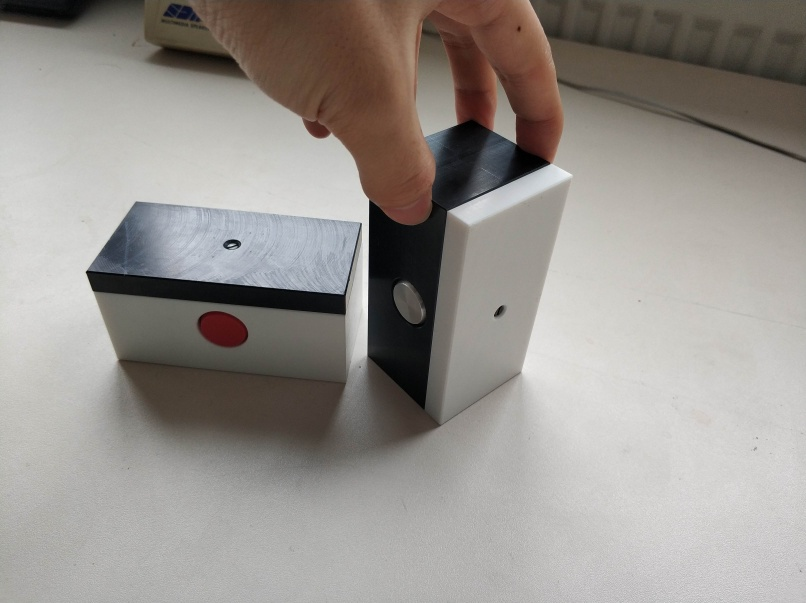black+white+red: (84, 201, 361, 387)
white+black+silver: (366, 119, 572, 426)
